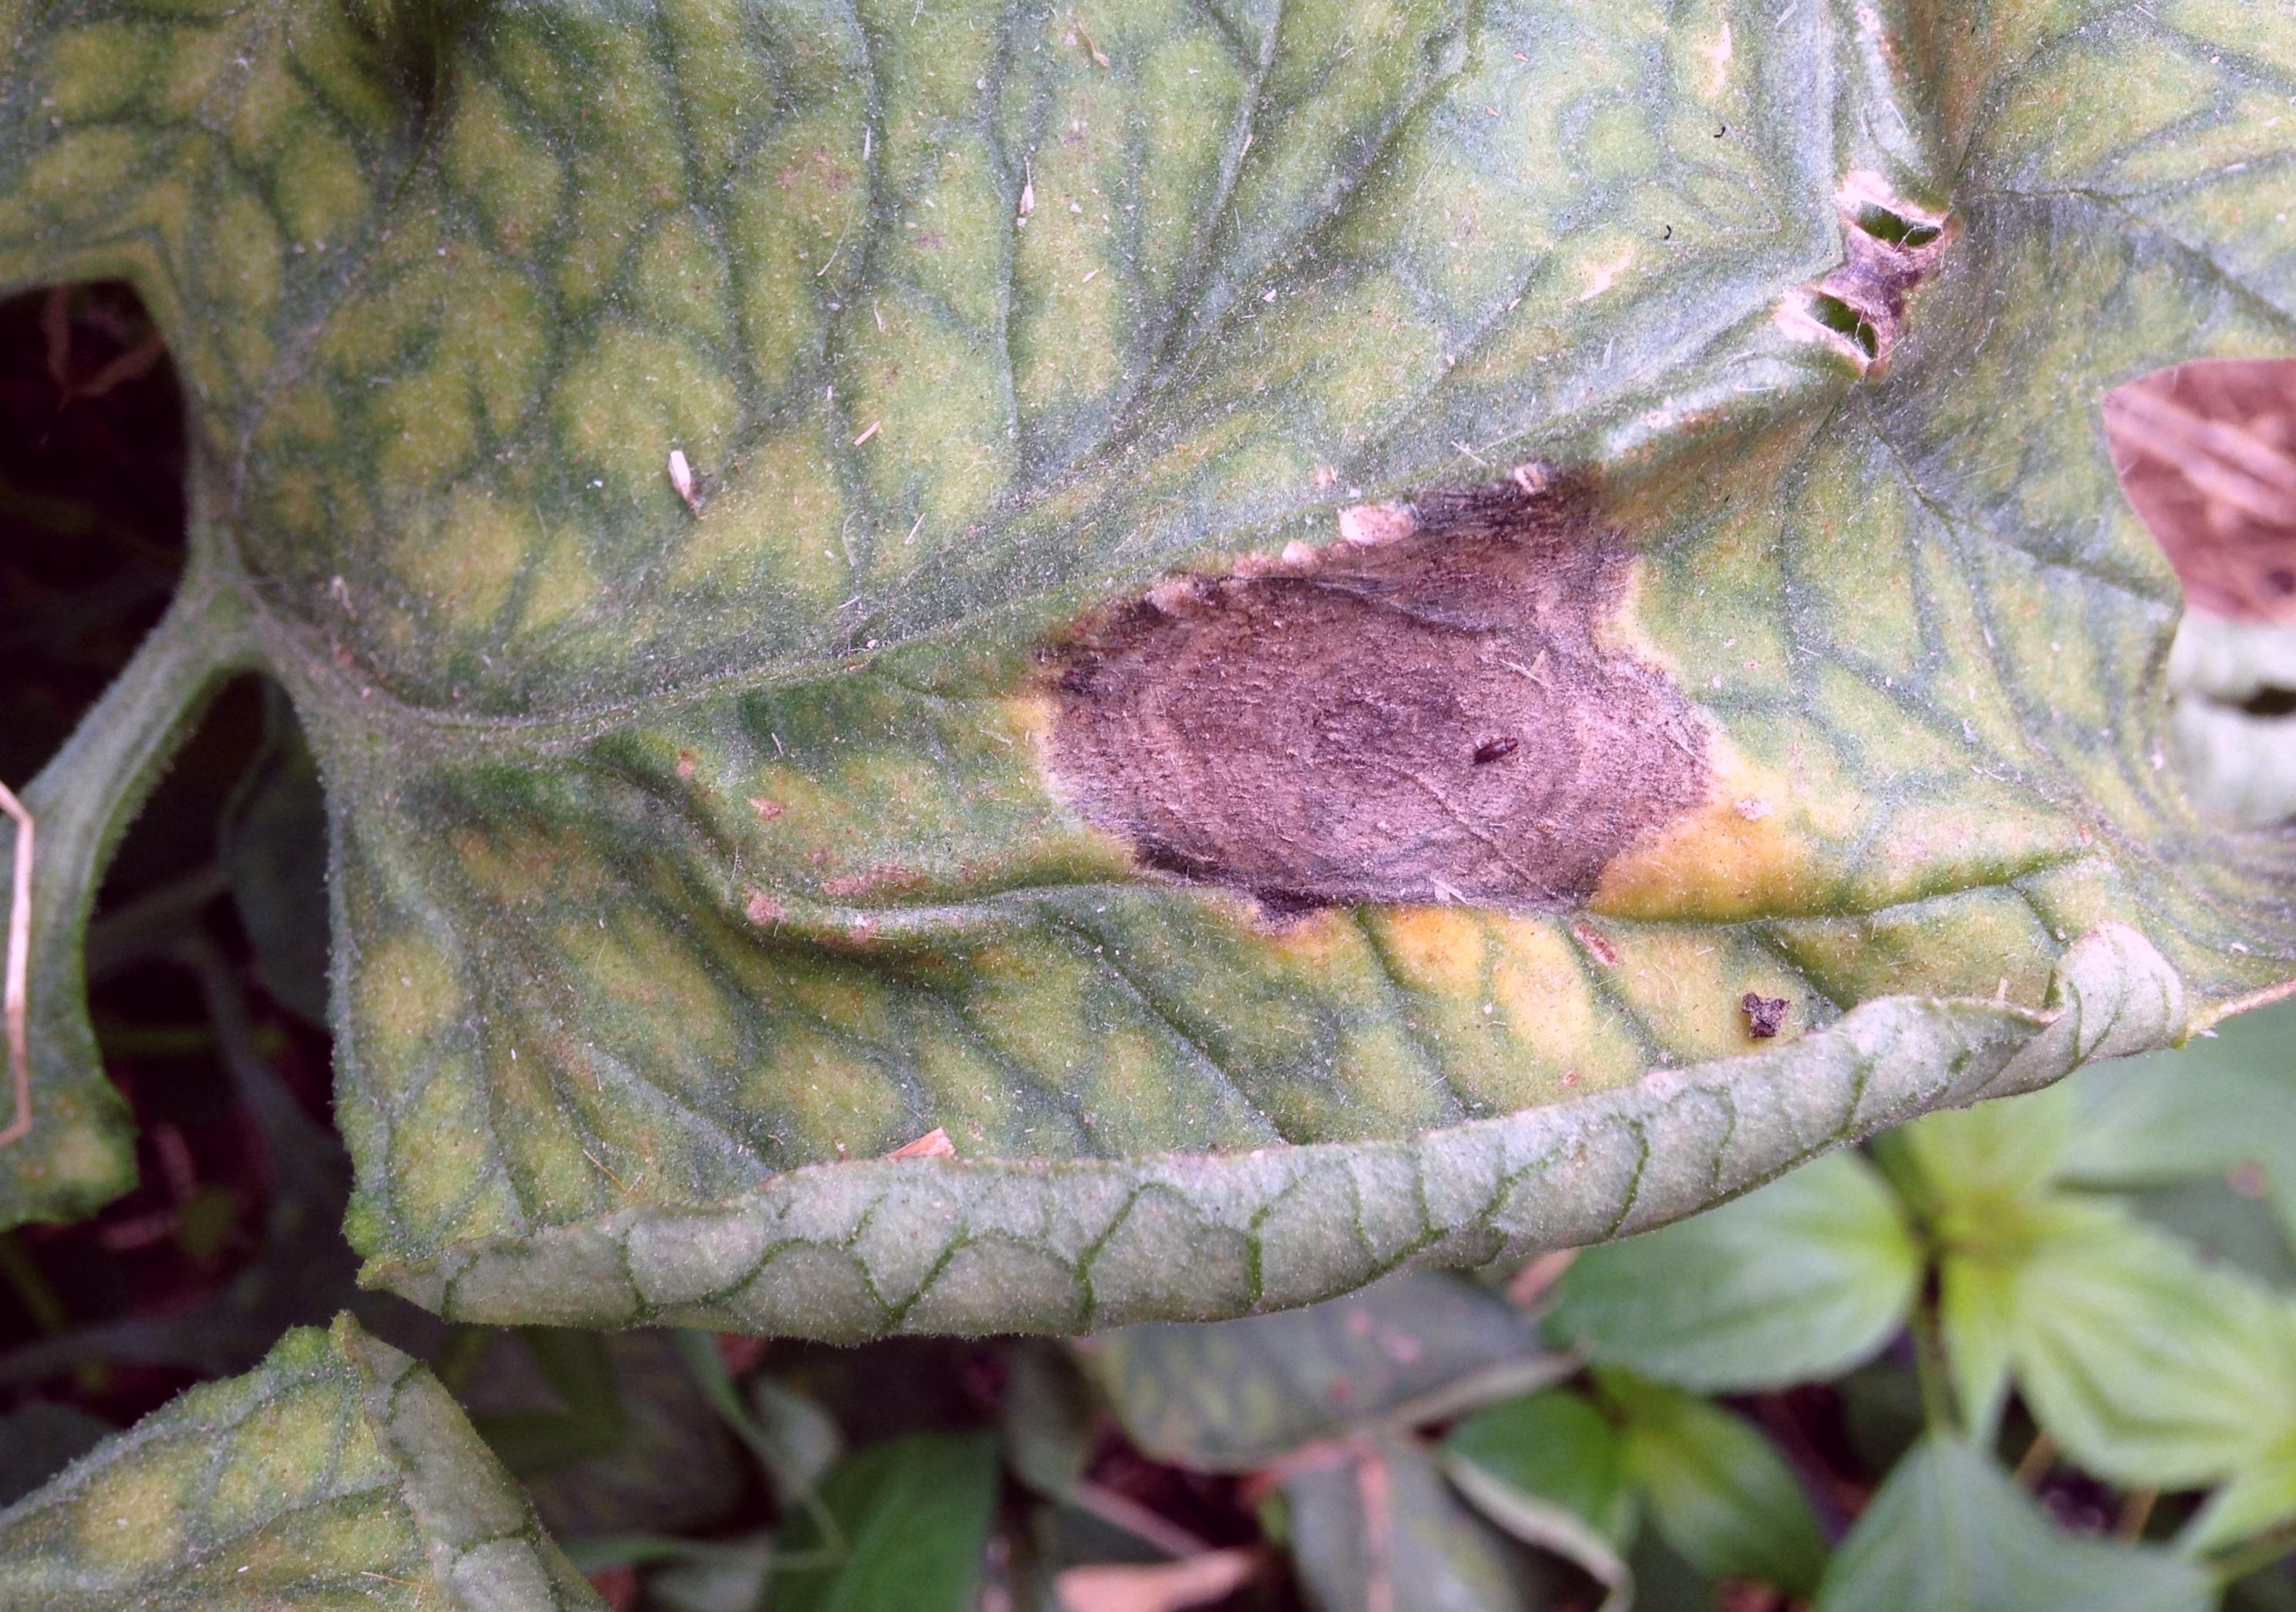Tomato Early blight leaf: (761, 22, 1997, 1173)
